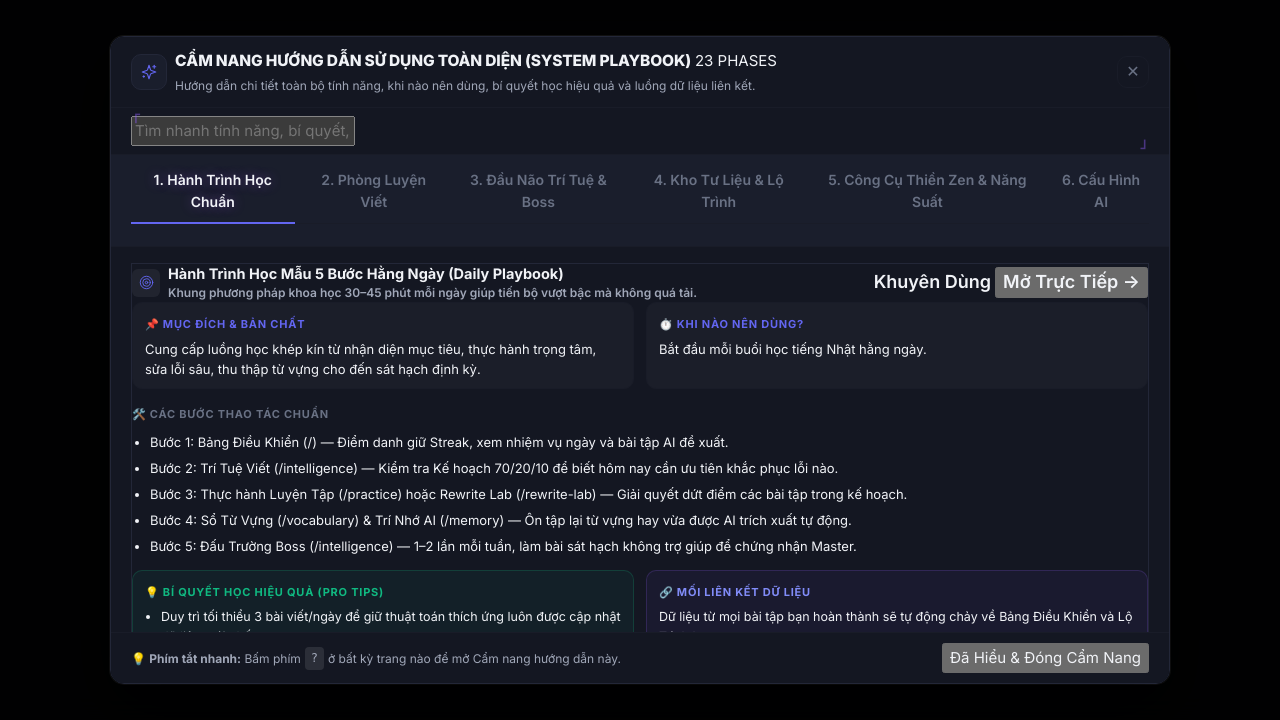
Test: SystemGuideModal & SystemGuideButton › filters guide items instantaneously through the search bar
The image size is (1280, 720).
Note: Search for "Boss"
In the field named "Tìm kiếm hướng dẫn": (243, 131) [131,116,355,146], type "boss"
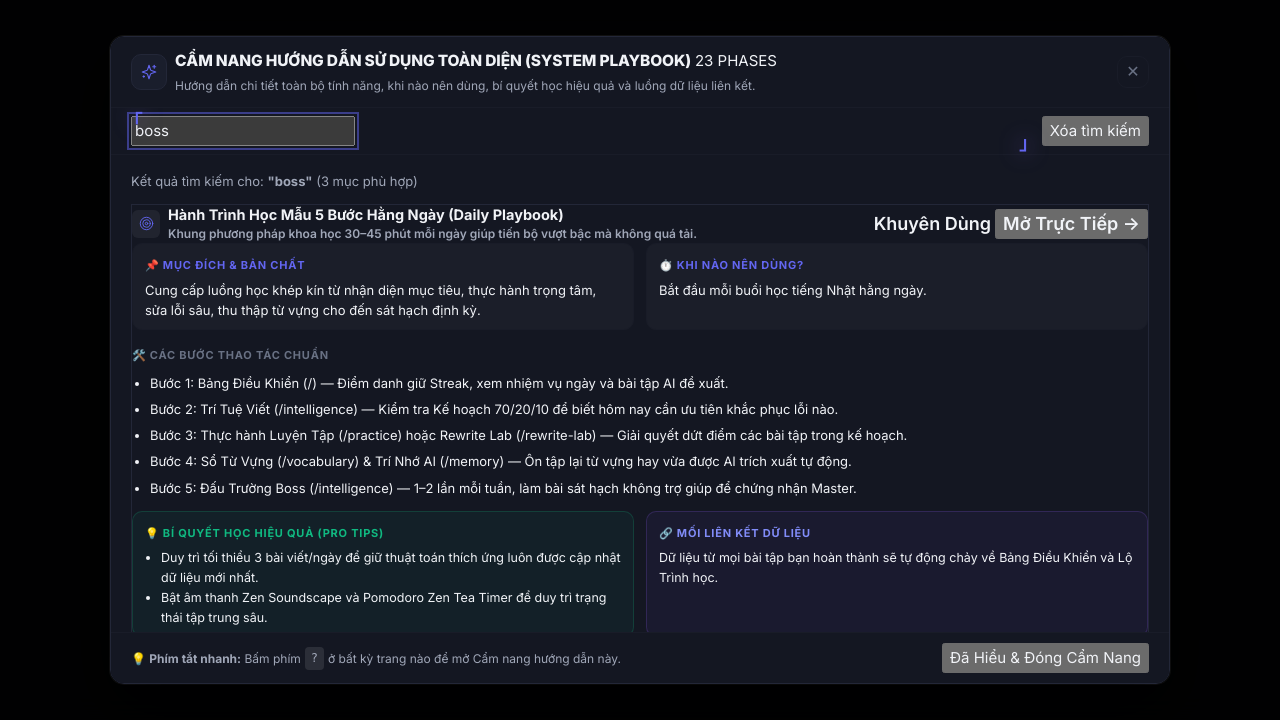
Expected: the heading "Đấu Trường Đánh Giá Boss (Boss Writing Arena)" is shown, [168,652,506,669]
Expected: the heading "Luyện Chữ Hán Kanji" is not shown
Note: Clear search
Replace the text in the field named "Tìm kiếm hướng dẫn" with "kanji": (243, 131) [131,116,355,146]
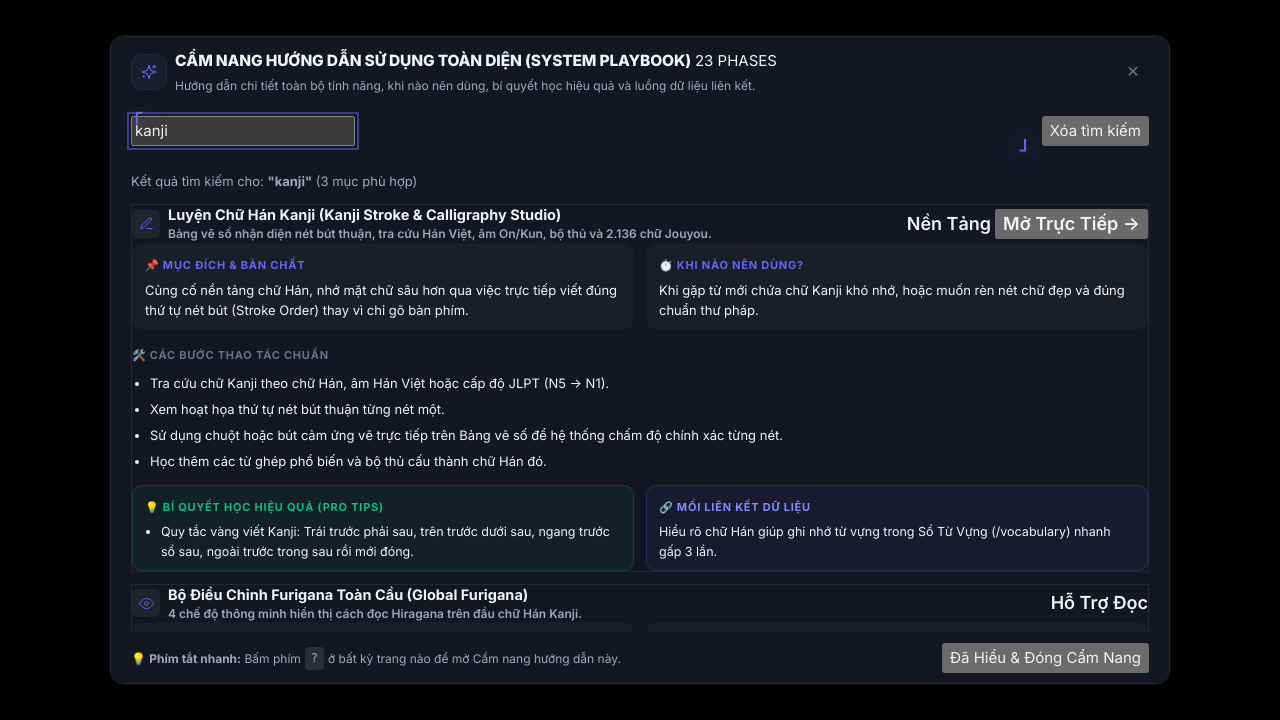
Expected: the heading "Đấu Trường Đánh Giá Boss" is not shown
Expected: the heading "Luyện Chữ Hán Kanji (Kanji Stroke & Calligraphy Studio)" is shown, [168,206,561,223]
